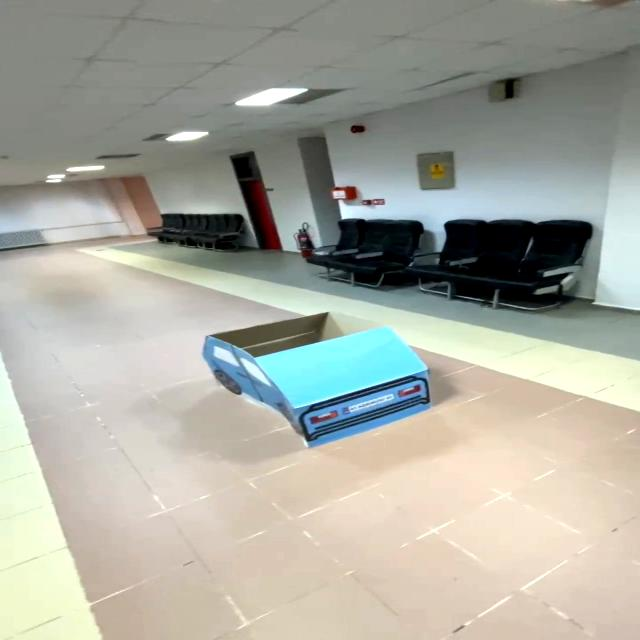blue_car: (174, 303, 505, 452)
